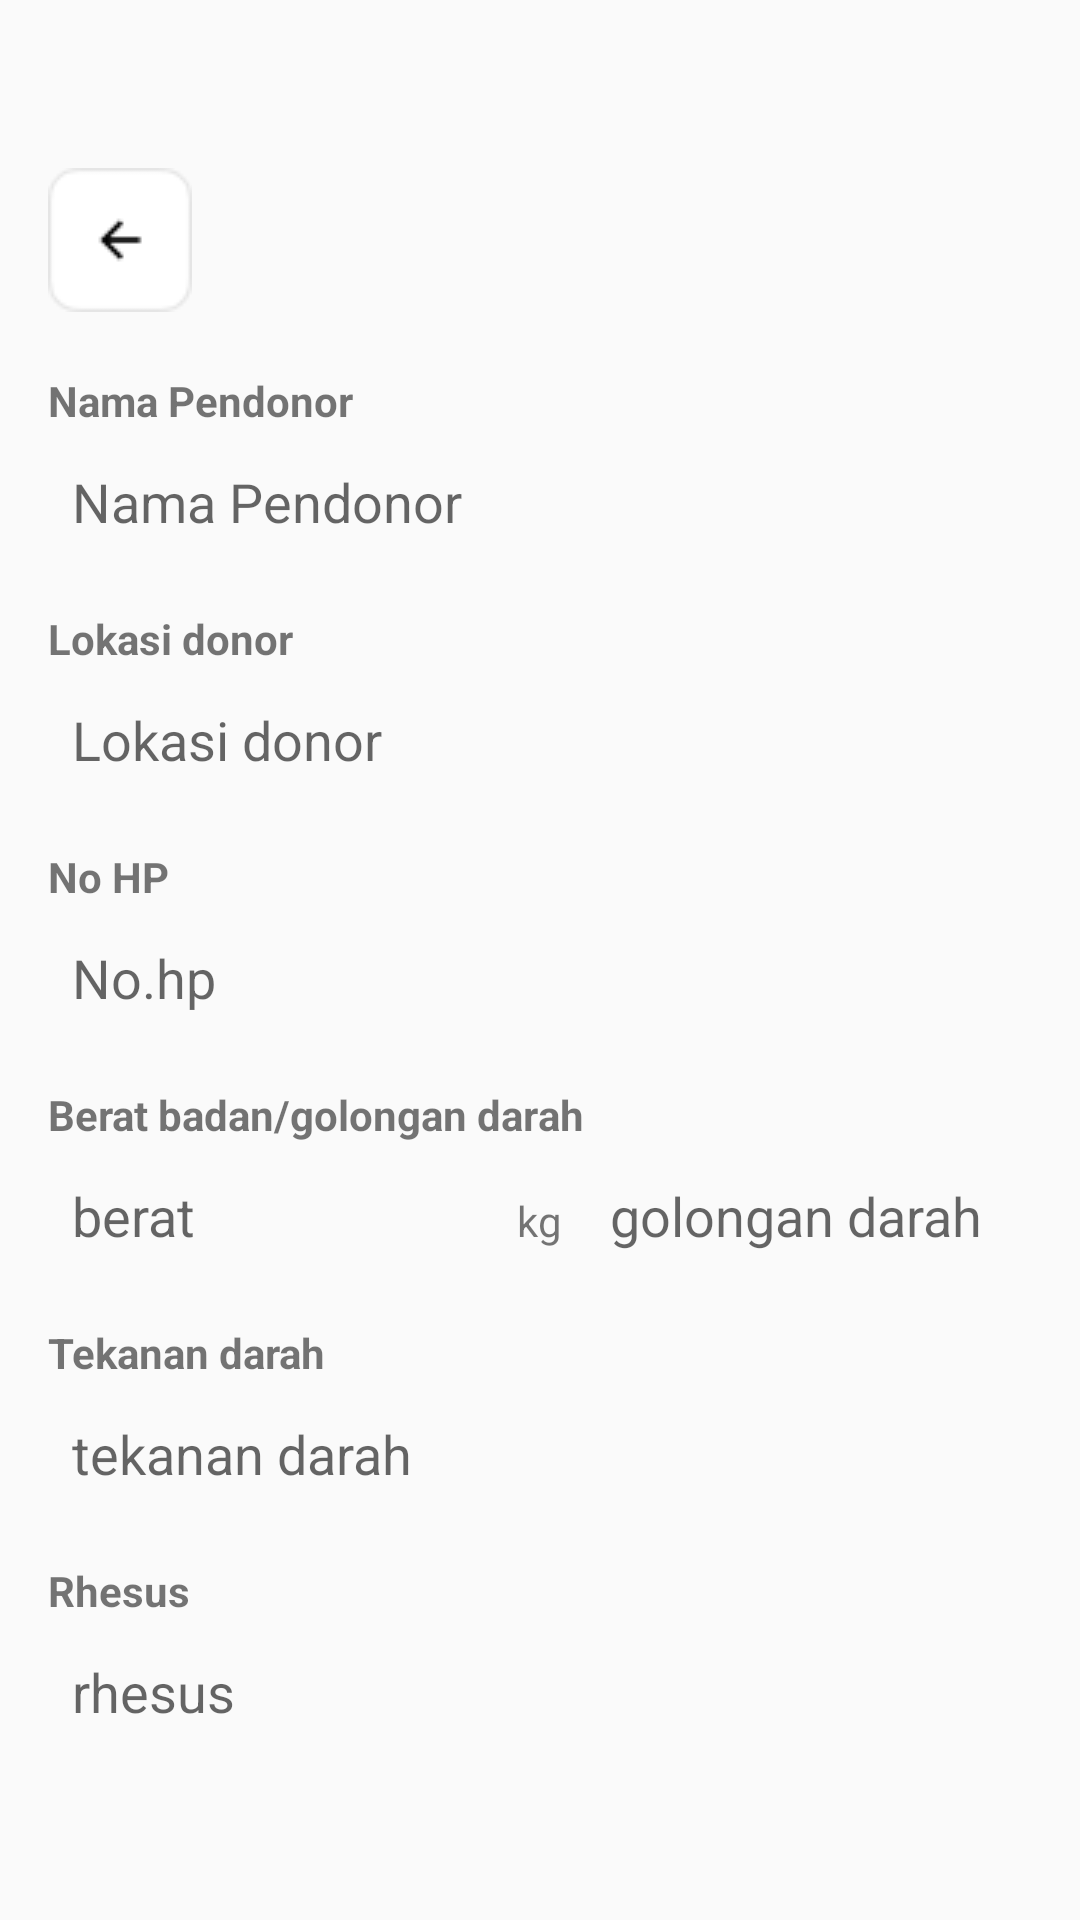

Screen size 1080w x 1920h. Icon name, then its center in pixels as [x,y]:
back: [120,240]
